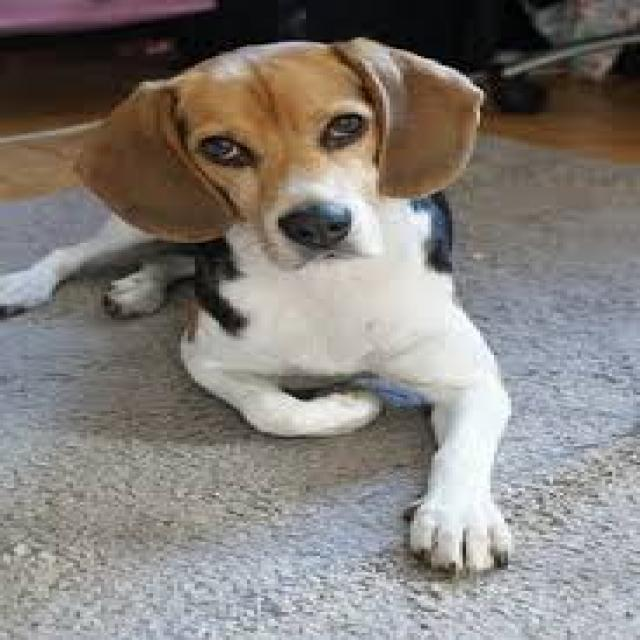Dog: (0, 26, 522, 586)
